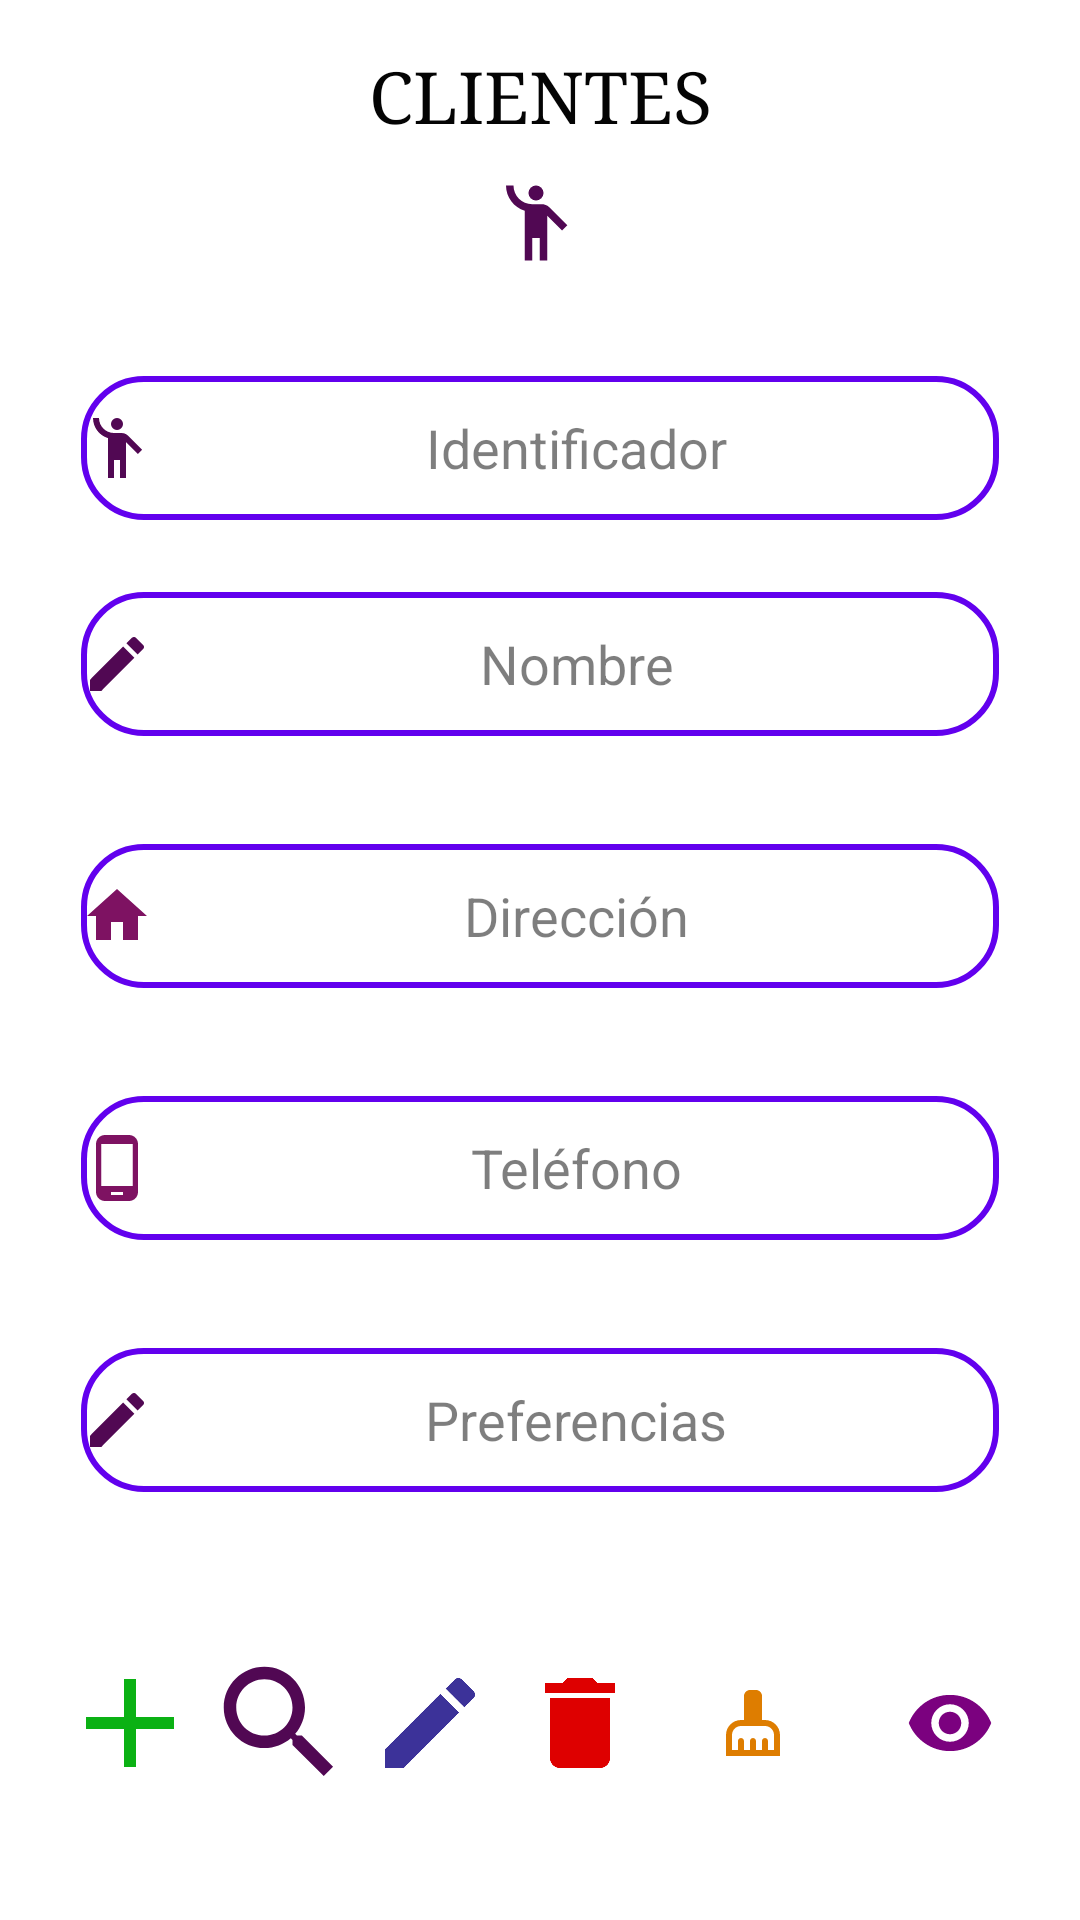

Icons on this 1080×1920 Android screen, each with the point to tap as (x,y):
add: (130,1723)
buscar: (278,1721)
cleaning services: (753,1723)
edit: (430,1723)
emoji people: (537,223)
eyes: (950,1723)
